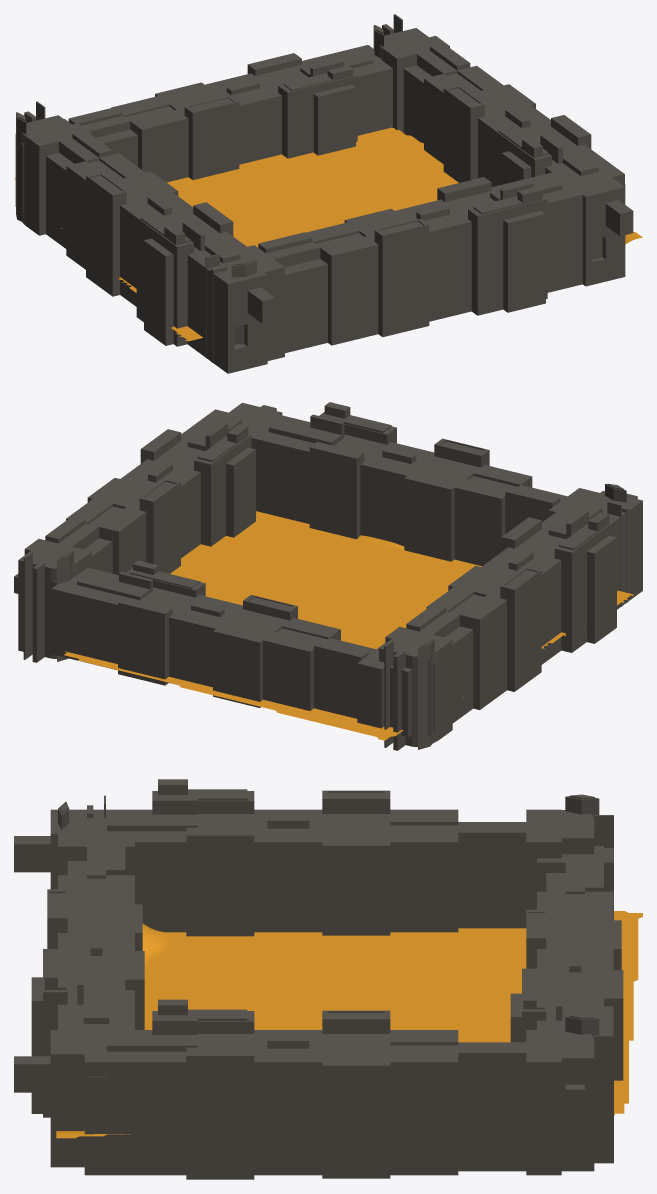
The model's file is Desert.gltf.
The picture shows the model from 3 angles, top to bottom: view 1: azimuth 30°, elevation 25°; view 2: azimuth 150°, elevation 25°; view 3: azimuth 270°, elevation 25°; orthographic projection. The views are drawn at different scales.
Parts seen in each view (by area): view 1: Cube.002, Cube.003, Cube.001, Cube.004, Plane; view 2: Cube.003, Cube.001, Cube.002, Cube.004, Plane; view 3: Cube.004, Cube.003, Plane, Cube.002, Cube.001.
Boxes of the visible parts, box(x1,y1,x2,y2) form: Cube.002: box(205, 171, 625, 363); Cube.003: box(16, 101, 275, 373); Cube.001: box(15, 45, 392, 212); Cube.004: box(373, 14, 633, 286); Plane: box(14, 127, 642, 341); Cube.003: box(379, 491, 642, 750); Cube.001: box(14, 560, 437, 737); Cube.002: box(236, 402, 628, 606); Cube.004: box(18, 402, 282, 662); Plane: box(64, 511, 633, 740); Cube.004: box(14, 999, 613, 1179); Cube.003: box(14, 779, 613, 936); Plane: box(56, 911, 642, 1138); Cube.002: box(31, 795, 144, 1160); Cube.001: box(510, 846, 623, 1109).
Size of the model in its own units: 45.03 by 10.79 by 44.67.
